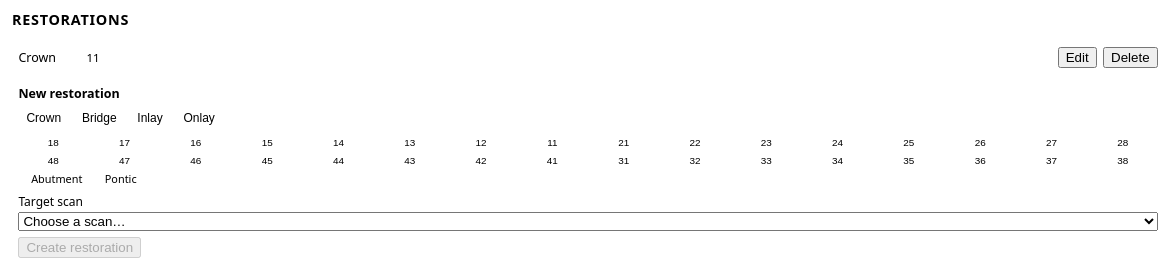
RestorationWizard — delete confirm gate (Task-11-review Critical 2) › deletes a bare restoration (no margins, placeholder axis) immediately, with no confirm dialog
Expected: the text "11" is shown, [86,50,100,65]
Click the button with test id "restoration-delete-button": point(1130, 58) [1103,47,1158,68]
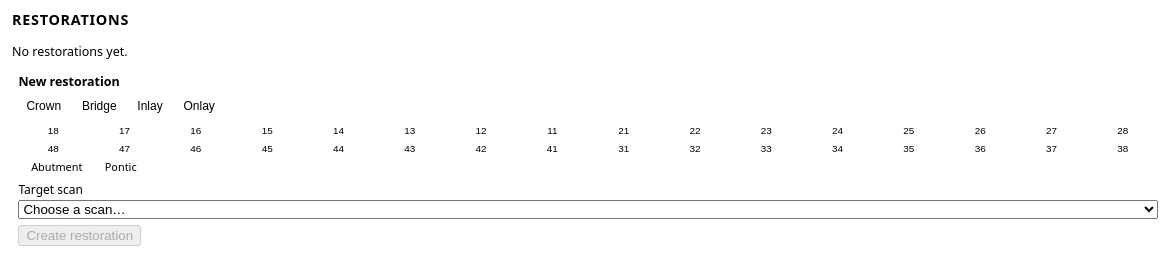
Expected: the list item with test id "restoration-row" is gone
